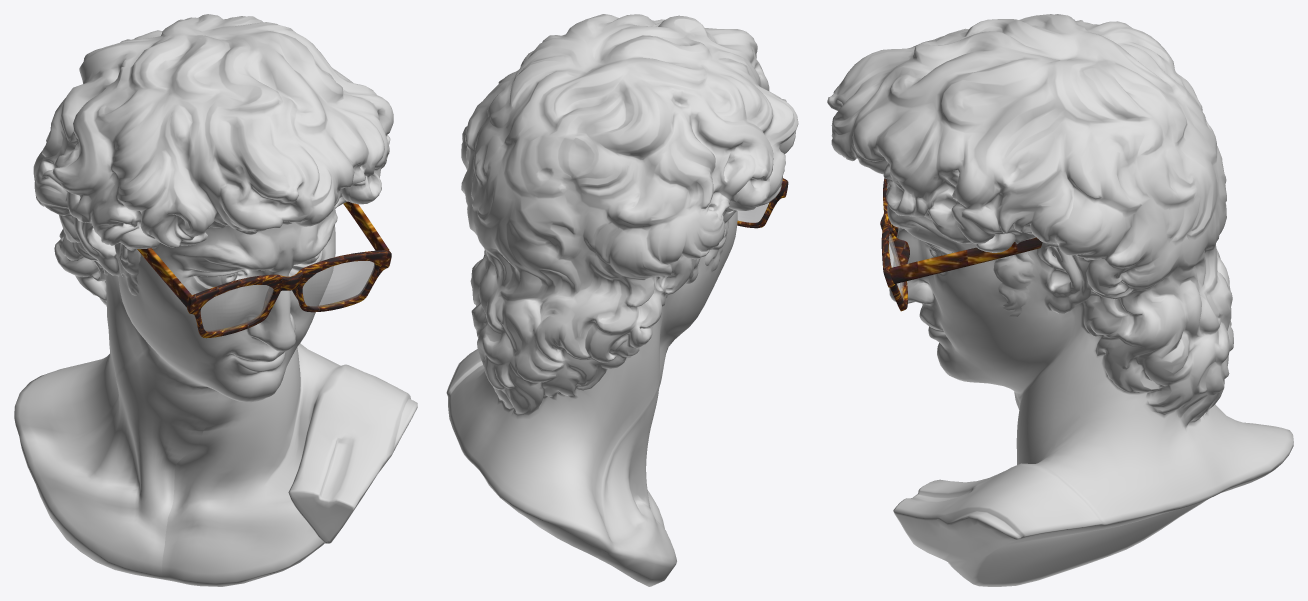
File: michelangelo_glasses.glb
3 renders of one model, left to right at view 1: azimuth 30°, elevation 25°; view 2: azimuth 150°, elevation 25°; view 3: azimuth 270°, elevation 25°, orthographic. The views are drawn at different scales.
Visible parts, largest first — view 1: frame; view 2: frame; view 3: frame.
Boxes of the visible parts, x1,y1,x2,y2 form: frame: [14, 14, 417, 586]; frame: [446, 14, 798, 586]; frame: [827, 14, 1293, 586].
Bounding box in the file's own units: 2.64 × 3.99 × 3.05.
Materials: 3 (1 with a texture image).
